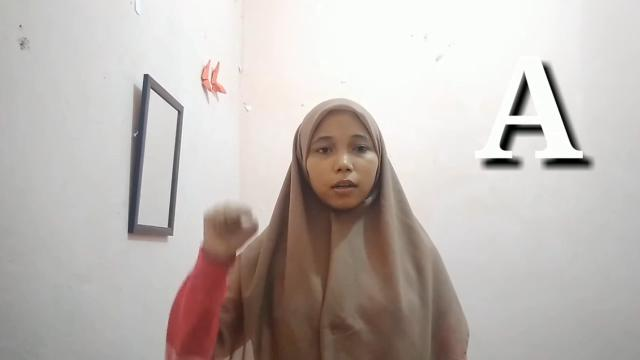A: (200, 202, 260, 253)
